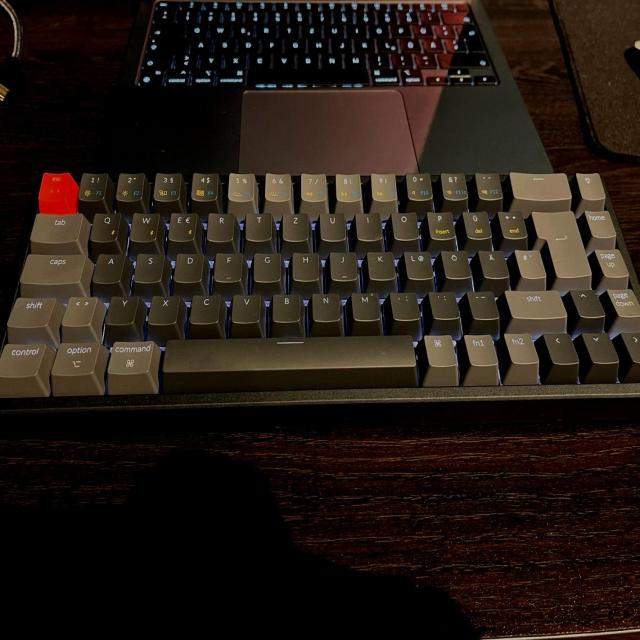0: (404, 170, 434, 202), (378, 8, 396, 22)
1: (76, 169, 106, 201), (178, 7, 198, 22)
2: (115, 170, 145, 203), (200, 8, 220, 22)
3: (153, 170, 183, 203), (224, 7, 242, 22)
4: (191, 170, 221, 202), (246, 6, 265, 22)
5: (226, 170, 256, 202), (269, 8, 287, 23)
6: (262, 170, 292, 202), (291, 9, 309, 23)
7: (299, 170, 329, 203), (314, 8, 332, 22)
8: (333, 171, 363, 204), (335, 8, 353, 22)
9: (369, 170, 399, 203), (357, 8, 375, 23)
a: (91, 251, 123, 282), (191, 37, 211, 51)
accent: (473, 170, 503, 202), (419, 8, 439, 23)
ae: (477, 247, 509, 277), (419, 36, 442, 50)
alt-left: (50, 339, 105, 390), (192, 68, 215, 84)
altgr-right: (401, 68, 424, 84)
b: (270, 291, 300, 321), (296, 51, 317, 66)
c: (189, 295, 221, 325), (248, 51, 269, 67)
caret: (36, 169, 68, 201), (154, 7, 174, 21)
comma: (388, 290, 419, 320), (366, 51, 389, 67)
d: (172, 250, 202, 281), (238, 37, 259, 52)
del: (507, 169, 570, 200), (442, 9, 475, 25)
e: (167, 210, 196, 241), (232, 21, 253, 37)
enter: (530, 207, 591, 277), (458, 24, 483, 49)
f: (212, 250, 242, 281), (260, 35, 281, 49)
g: (252, 250, 281, 281), (283, 35, 303, 49)
h: (290, 249, 319, 279), (307, 35, 327, 49)
hash: (513, 247, 546, 277), (443, 35, 463, 50)
i: (354, 209, 382, 239), (345, 21, 364, 34)
j: (328, 249, 357, 280), (330, 35, 349, 50)
k: (365, 249, 395, 279), (352, 35, 373, 49)
keyboard: (0, 165, 640, 413), (127, 0, 500, 87)
l: (403, 248, 433, 278), (375, 35, 396, 50)
less: (59, 294, 96, 325), (174, 51, 196, 68)
m: (350, 289, 380, 319), (344, 50, 364, 66)
minus: (465, 288, 499, 318), (412, 50, 436, 66)
n: (310, 290, 341, 321), (321, 50, 342, 66)
o: (390, 209, 418, 238), (366, 22, 387, 35)
oe: (441, 249, 473, 278), (398, 35, 418, 50)
p: (440, 248, 471, 278), (426, 209, 455, 239), (389, 22, 409, 34)
plus: (496, 207, 527, 237), (433, 22, 456, 37)
point: (427, 289, 460, 318), (390, 51, 411, 66)
q: (88, 210, 119, 241), (185, 22, 207, 37)
r: (207, 212, 235, 242), (257, 22, 275, 36)
s: (132, 251, 162, 282), (215, 37, 235, 51)
shift-left: (5, 294, 57, 327), (142, 50, 173, 67)
shift-lock: (18, 251, 85, 283), (147, 37, 187, 50)
shift-right: (502, 287, 566, 317), (435, 50, 488, 65)
space: (157, 336, 420, 379), (247, 67, 370, 81)
ss: (439, 169, 469, 202), (399, 8, 417, 22)
strg-left: (0, 340, 46, 376), (166, 69, 189, 86)
t: (244, 210, 272, 240), (279, 22, 298, 35)
tab: (28, 209, 82, 242), (150, 21, 184, 35)
u: (318, 210, 345, 240), (324, 21, 341, 35)
ue: (461, 208, 491, 238), (411, 22, 432, 35)
v: (230, 292, 260, 322), (272, 51, 294, 66)
w: (128, 210, 158, 242), (210, 22, 232, 37)
x: (146, 293, 179, 324), (224, 52, 246, 68)
y: (103, 294, 137, 324), (200, 51, 221, 67)
z: (281, 210, 309, 240), (301, 21, 320, 34)
